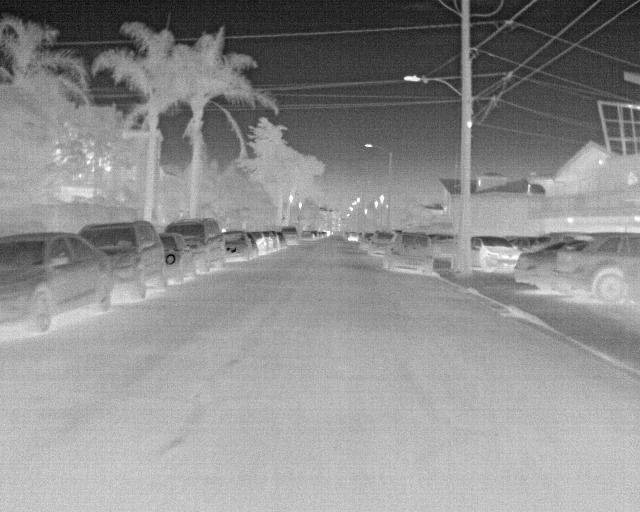car: (0, 229, 115, 337), (78, 220, 167, 302), (553, 229, 639, 303), (512, 235, 584, 291), (174, 219, 226, 273), (382, 230, 436, 276), (473, 233, 521, 273), (159, 233, 193, 282), (221, 230, 257, 260), (427, 233, 453, 262), (370, 229, 393, 258), (280, 225, 303, 244), (251, 232, 267, 255), (267, 228, 281, 249), (259, 230, 273, 249), (345, 230, 361, 242), (300, 229, 315, 241)
